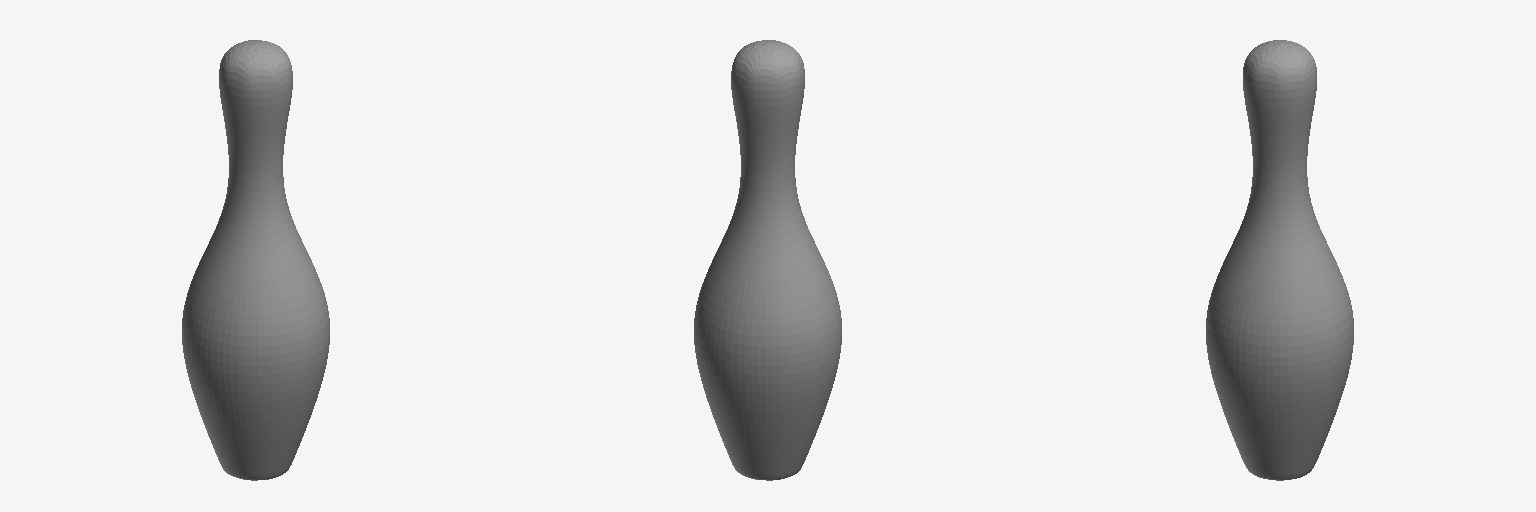
The model's file is pin.obj.
The picture shows the model from 3 angles: view 1: azimuth 30°, elevation 25°; view 2: azimuth 150°, elevation 25°; view 3: azimuth 270°, elevation 25°; orthographic projection.
Parts seen in each view (by area): view 1: Cylinder; view 2: Cylinder; view 3: Cylinder.
Part boxes in pixels (x1,y1,x2,y2): Cylinder: (182,40,329,480); Cylinder: (694,40,841,480); Cylinder: (1206,40,1353,480).
Bounding box in the file's own units: 3.32 × 10.44 × 3.32.